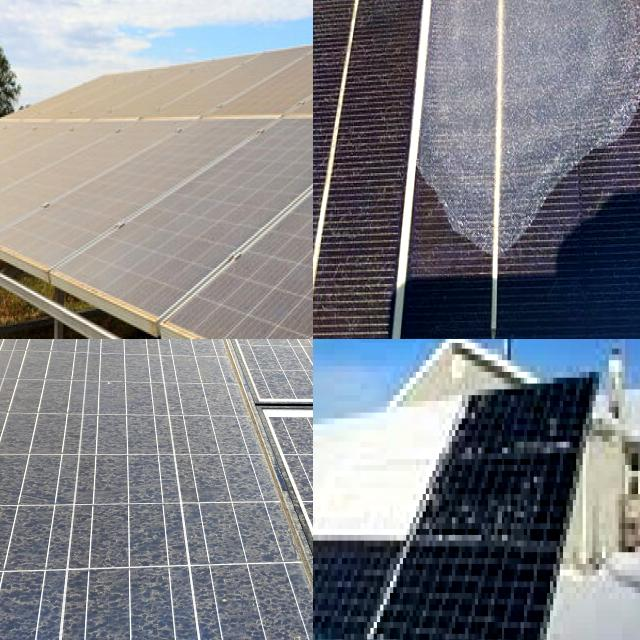dust: (0, 525, 163, 640), (0, 392, 175, 499), (152, 131, 236, 320), (0, 131, 117, 248), (187, 518, 298, 624), (180, 408, 254, 508), (256, 227, 313, 339), (210, 58, 313, 111), (104, 339, 210, 388), (0, 339, 95, 390), (275, 418, 313, 531)
panel: (355, 391, 465, 548), (313, 414, 375, 544), (502, 424, 558, 550), (313, 445, 369, 547)
shadow: (416, 0, 640, 252)
